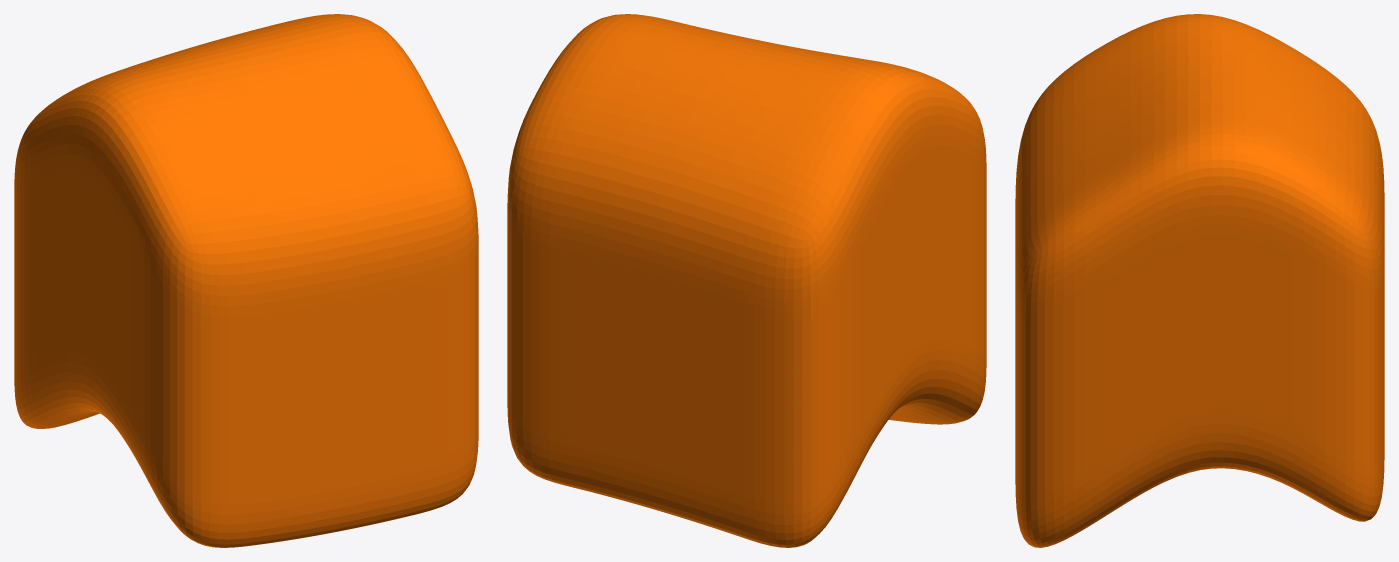
The picture shows the model from 3 angles, left to right: view 1: azimuth 30°, elevation 25°; view 2: azimuth 150°, elevation 25°; view 3: azimuth 270°, elevation 25°; orthographic projection. The views are drawn at different scales.
Visible parts, largest first — view 1: smooth_1_base.035; view 2: smooth_1_base.035; view 3: smooth_1_base.035.
Part boxes in pixels (x1,y1,x2,y2): smooth_1_base.035: (14,14,478,547); smooth_1_base.035: (507,14,986,547); smooth_1_base.035: (1015,14,1384,547).
Size of the model in its own units: 60 by 74.76 by 60.
